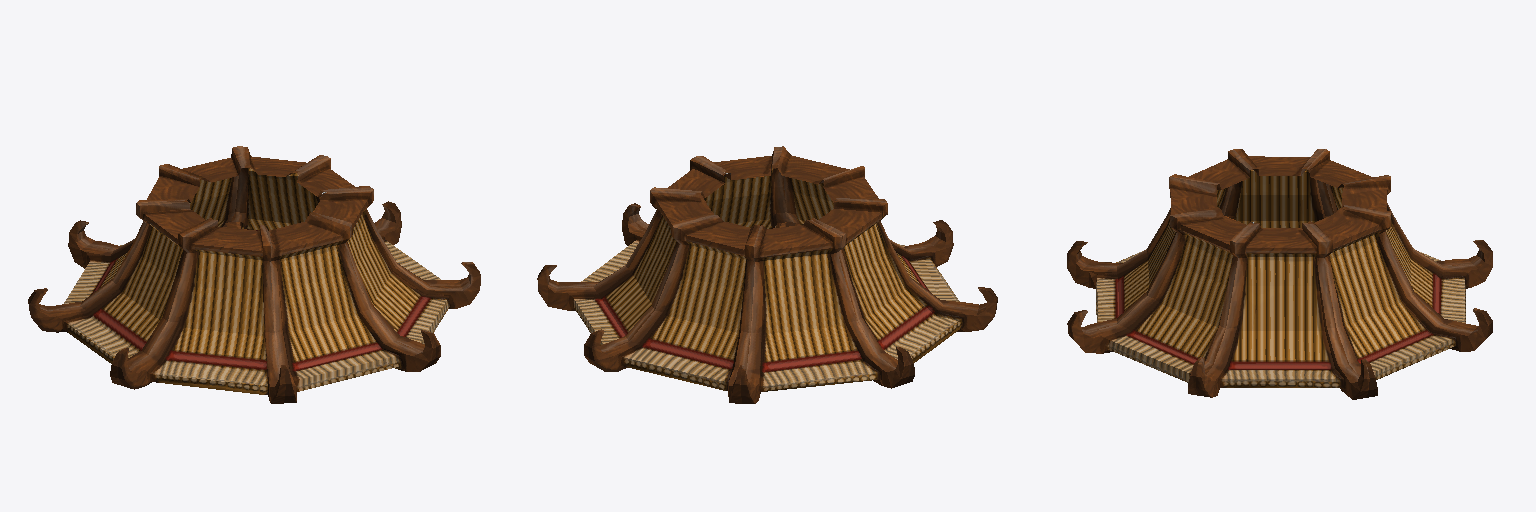
3 views of the same model, side by side, from view 1: azimuth 30°, elevation 25°; view 2: azimuth 150°, elevation 25°; view 3: azimuth 270°, elevation 25° (orthographic).
Parts seen in each view (by area): view 1: group pasted__polySurface17 polySurface2 polySurface1; view 2: group pasted__polySurface17 polySurface2 polySurface1; view 3: group pasted__polySurface17 polySurface2 polySurface1.
Boxes of the visible parts, x1=… form: group pasted__polySurface17 polySurface2 polySurface1: x1=28, y1=146, x2=480, y2=403; group pasted__polySurface17 polySurface2 polySurface1: x1=537, y1=146, x2=997, y2=403; group pasted__polySurface17 polySurface2 polySurface1: x1=1067, y1=149, x2=1492, y2=399.
Bounding box in the file's own units: 10.39 × 3.19 × 10.28.
Materials: 1 (1 with a texture image).